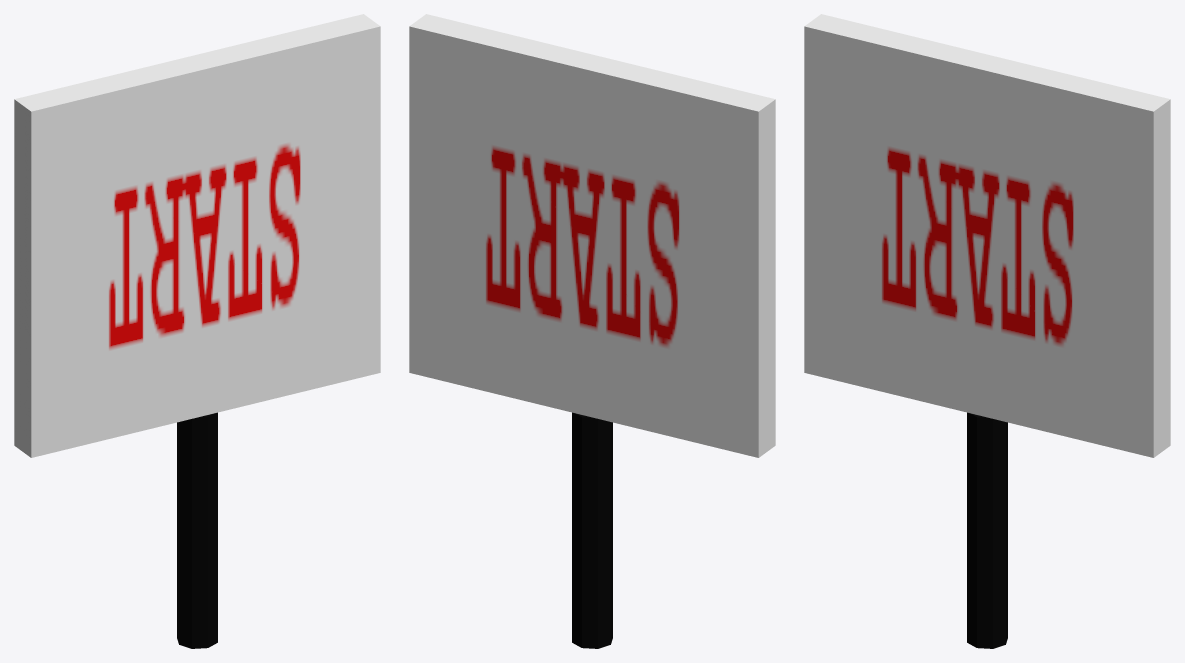
Rendered from arrow-sign-left.glb.
3 views of the same model, side by side, from view 1: azimuth 30°, elevation 25°; view 2: azimuth 150°, elevation 25°; view 3: azimuth 330°, elevation 25° (orthographic).
Parts seen in each view (by area): view 1: Cube, Cylinder; view 2: Cube, Cylinder; view 3: Cube, Cylinder.
Boxes of the visible parts, x1,y1,x2,y2 form: Cube: [14, 14, 380, 457]; Cylinder: [177, 412, 217, 648]; Cube: [409, 14, 775, 457]; Cylinder: [572, 412, 612, 648]; Cube: [804, 14, 1170, 457]; Cylinder: [967, 412, 1007, 648].
Size of the model in its own units: 1.9 by 3 by 0.2.
2 materials, 1 textured.
